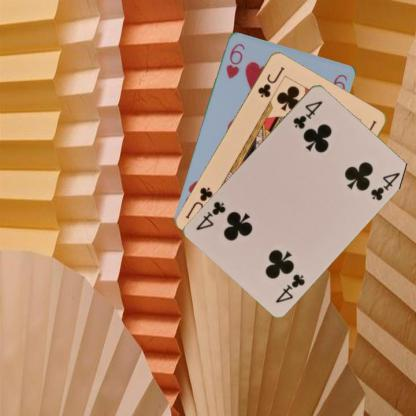4c: (273, 270, 307, 304), (290, 98, 324, 130)
6h: (223, 40, 246, 80)
Jc: (255, 64, 286, 98)
